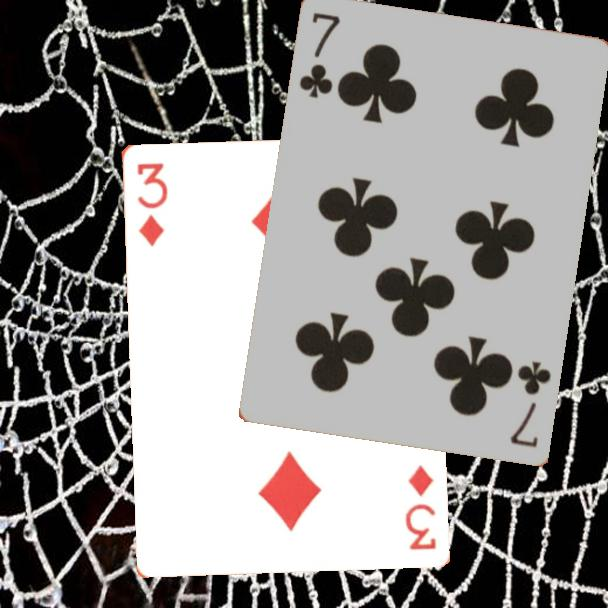c07: (507, 358, 554, 451), (296, 9, 343, 102)
d03: (401, 461, 439, 553), (133, 158, 169, 249)
